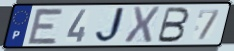4: (65, 9, 87, 44)
7: (196, 9, 221, 41)
B: (155, 6, 191, 43)
E: (26, 7, 66, 45)
J: (93, 6, 129, 45)
X: (122, 5, 162, 45)
